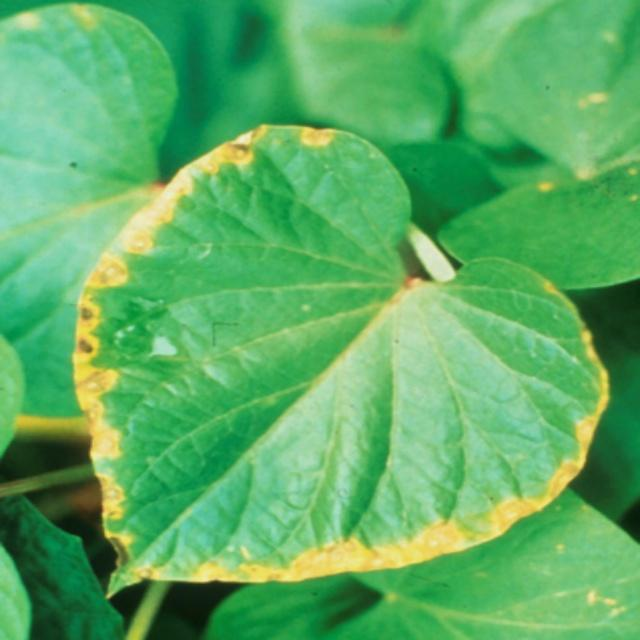leaf_spot: (59, 225, 255, 591)
